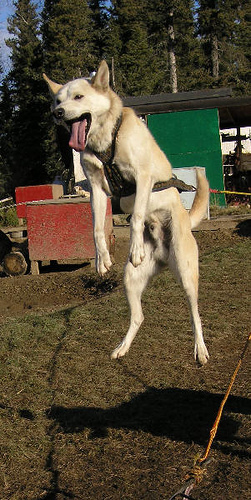dog: (40, 58, 210, 367)
